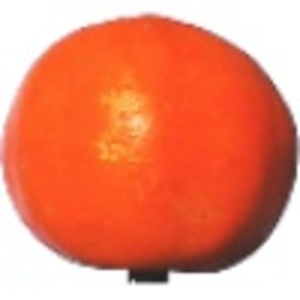tangerina: (1, 12, 300, 283)
